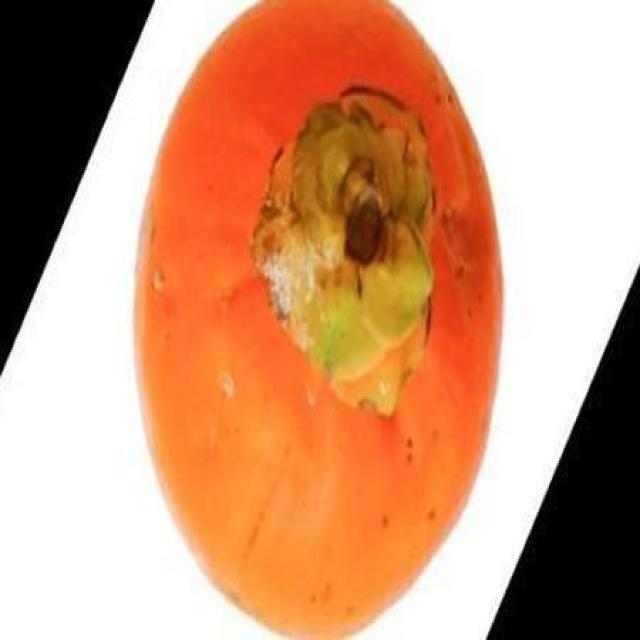good: (138, 0, 503, 638)
